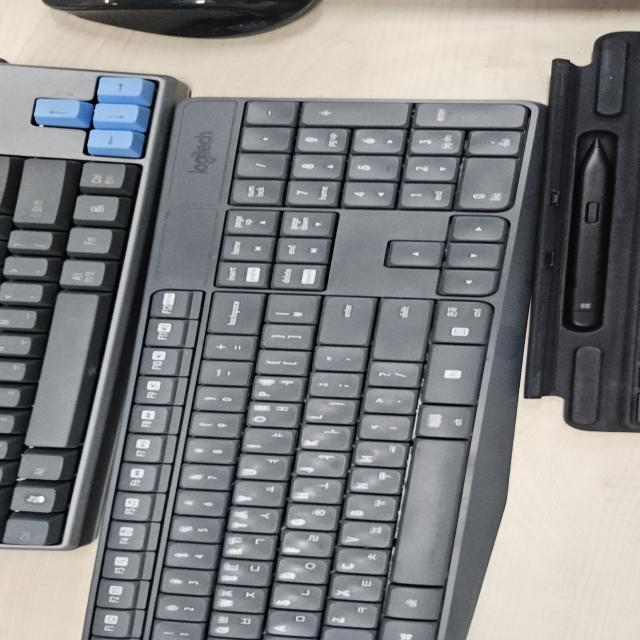Mouse: (86, 94, 519, 640)
